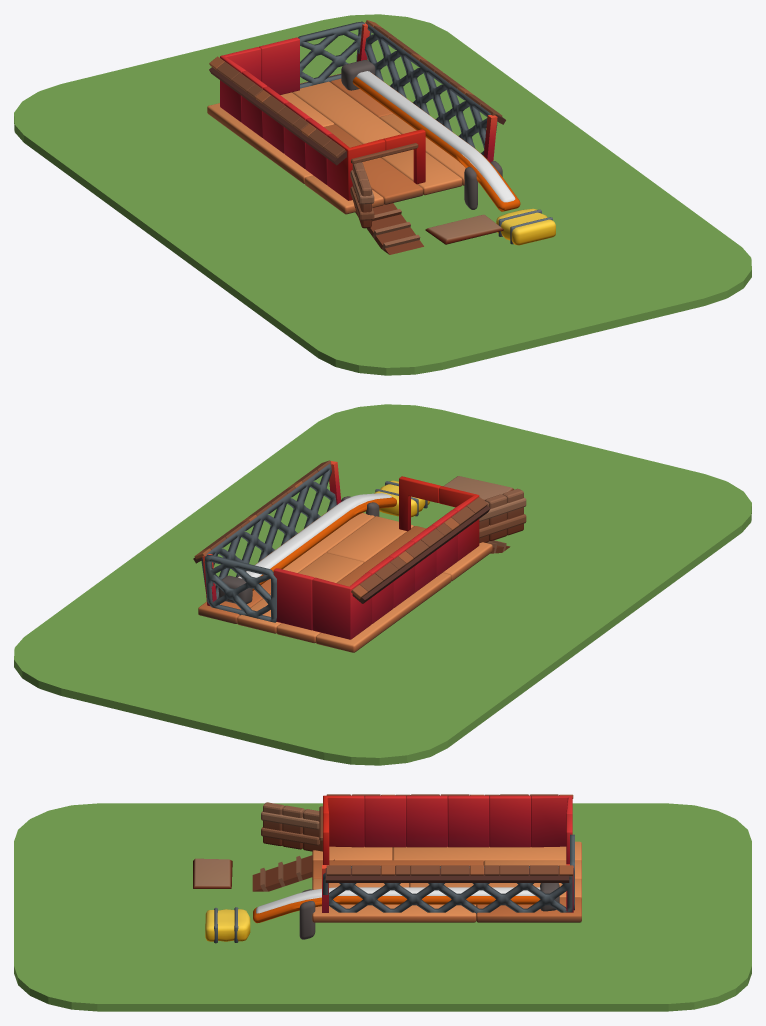
Rendered from ChickenBase.fbx.
The picture shows the model from 3 angles, top to bottom: view 1: azimuth 30°, elevation 25°; view 2: azimuth 150°, elevation 25°; view 3: azimuth 270°, elevation 25°; orthographic projection. The views are drawn at different scales.
Parts seen in each view (by area): view 1: Cube.105, Cube.072, Cube.061, Plane.002, Plane, Plane.003, Plane.004, Cube.075, Cube.030, Cube.031, Plane.005, Cube.073 (+5 smaller); view 2: Cube.105, Cube.061, Cube.072, Plane.002, Plane.003, Cube.073, Plane, Plane.004, Cube.029, Cube.064, Cube.028, Cube.031 (+2 smaller); view 3: Cube.105, Cube.061, Cube.072, Plane.002, Cube.073, Cube.064, Plane.004, Plane, Cube.075, Cube.030, Cube.031, Cube.029 (+3 smaller).
Boxes of the visible parts, <box> form: Cube.105: <box>14,14,751,375</box>; Cube.072: <box>207,73,465,214</box>; Cube.061: <box>220,37,425,200</box>; Plane.002: <box>364,23,497,155</box>; Plane: <box>356,71,515,202</box>; Plane.003: <box>298,21,365,88</box>; Plane.004: <box>352,73,520,211</box>; Cube.075: <box>355,189,423,254</box>; Cube.030: <box>496,208,555,245</box>; Cube.031: <box>425,214,503,244</box>; Plane.005: <box>341,60,502,209</box>; Cube.073: <box>350,162,374,228</box>; Cube.105: <box>14,404,751,765</box>; Cube.061: <box>273,476,479,639</box>; Cube.072: <box>198,513,492,652</box>; Plane.002: <box>201,464,336,599</box>; Plane.003: <box>204,554,276,622</box>; Cube.073: <box>479,488,526,543</box>; Plane: <box>238,493,391,578</box>; Plane.004: <box>239,497,396,590</box>; Cube.029: <box>194,520,406,598</box>; Cube.064: <box>193,505,490,603</box>; Cube.028: <box>241,486,451,564</box>; Cube.031: <box>443,476,513,500</box>; Cube.105: <box>14,803,751,1011</box>; Cube.061: <box>323,795,572,864</box>; Cube.072: <box>312,841,581,922</box>; Plane.002: <box>323,866,572,913</box>; Cube.073: <box>261,802,322,851</box>; Cube.064: <box>325,868,569,882</box>; Plane.004: <box>253,896,540,923</box>; Plane: <box>256,887,540,913</box>; Cube.075: <box>252,855,334,891</box>; Cube.030: <box>205,909,250,941</box>; Cube.031: <box>193,858,232,888</box>; Cube.029: <box>484,794,573,876</box>.
Size of the model in its own units: 9.3 by 1.84 by 14.46.
